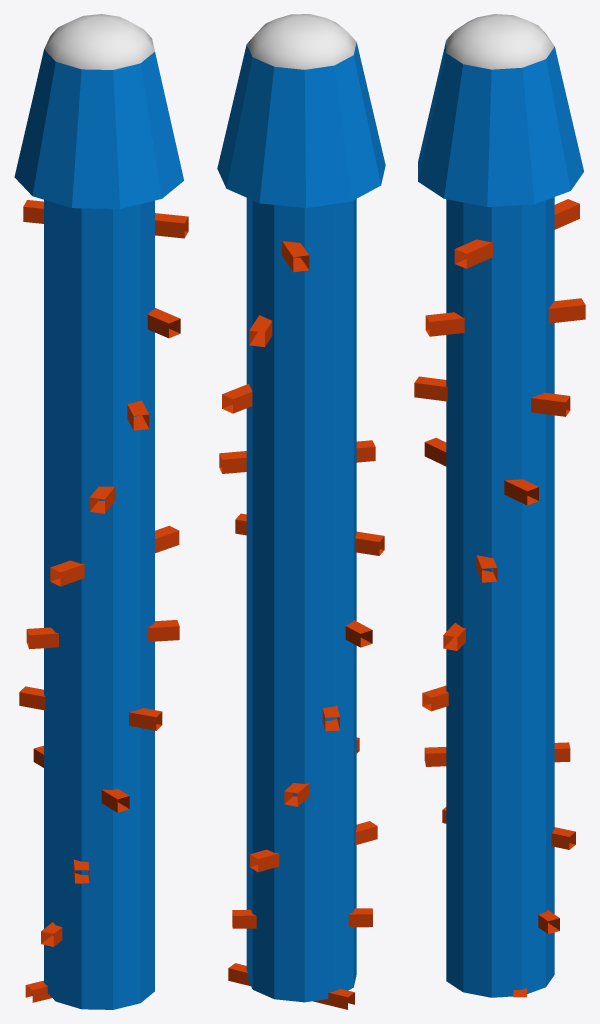
Rendered from Floor 17.fbx.
3 views of the same model, side by side, from view 1: azimuth 30°, elevation 25°; view 2: azimuth 150°, elevation 25°; view 3: azimuth 270°, elevation 25° (orthographic).
Parts seen in each view (by area): view 1: Floor17Mesh; view 2: Floor17Mesh; view 3: Floor17Mesh.
Part boxes in pixels (<box>): Floor17Mesh: <box>14,14,188,1009</box>; Floor17Mesh: <box>217,14,385,1009</box>; Floor17Mesh: <box>414,14,585,997</box>.
Size of the model in its own units: 2425 by 15255 by 2473.
